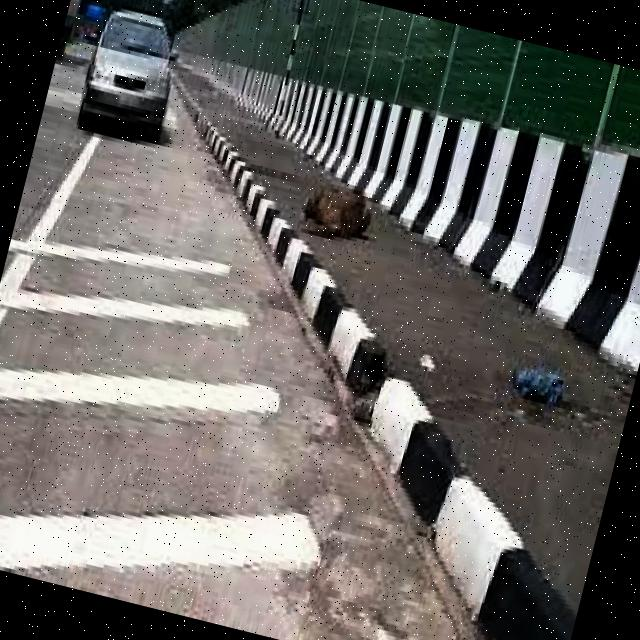curb: (359, 99, 640, 321), (265, 276, 478, 506), (379, 461, 604, 640), (203, 169, 344, 304), (302, 88, 435, 216), (208, 53, 328, 149)
